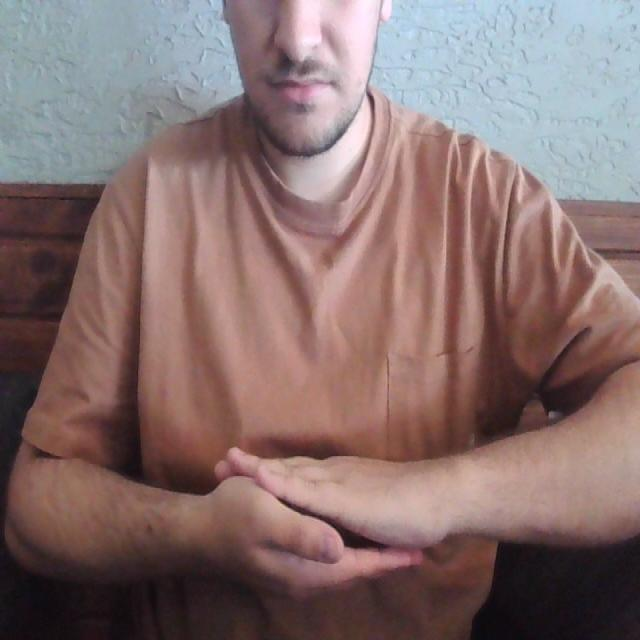Arkadas: (74, 435, 569, 606)
